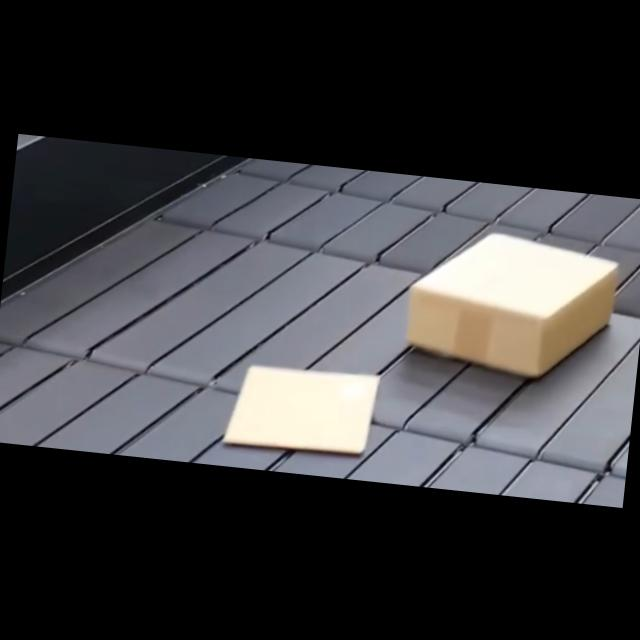box: (403, 222, 619, 380)
mailer: (224, 356, 380, 456)
